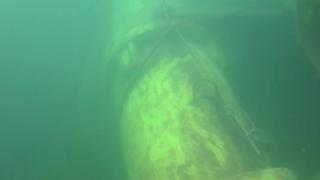pipe: (101, 1, 296, 180), (298, 1, 320, 76)
